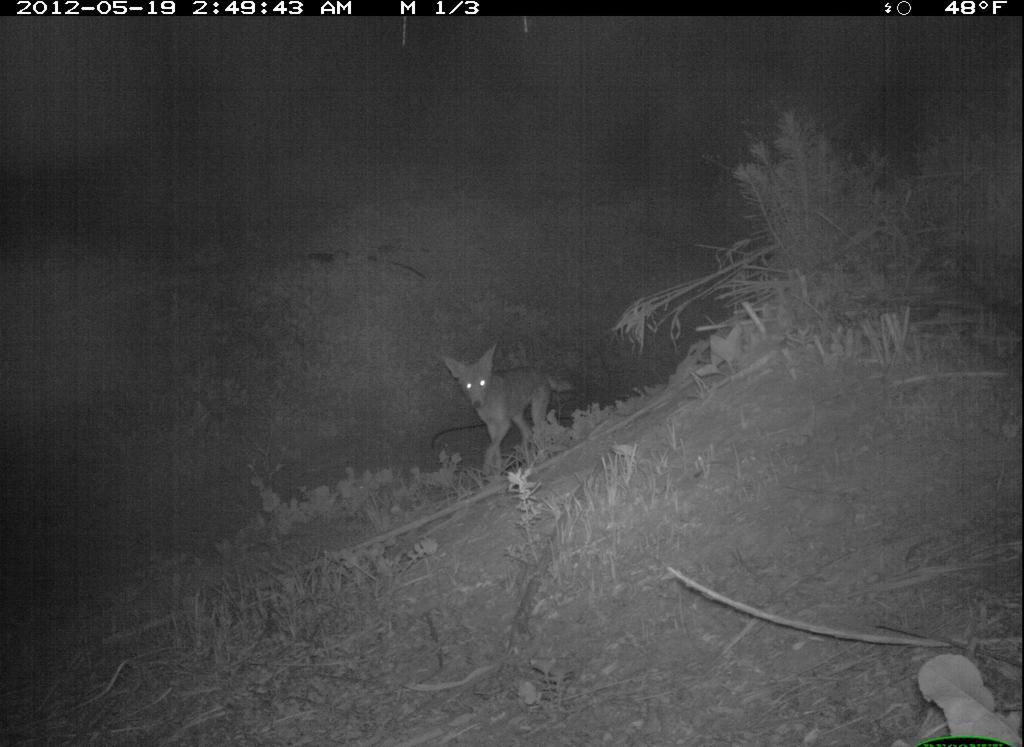coyote: (437, 338, 583, 478)
